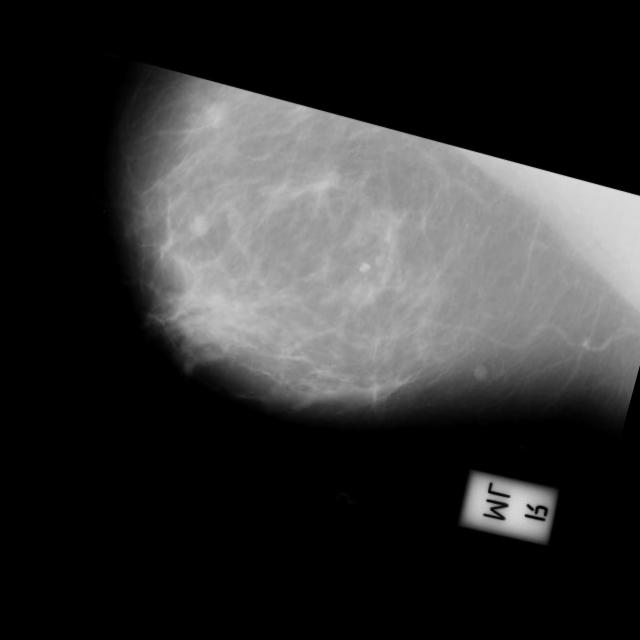MISC: (198, 100, 229, 132)
